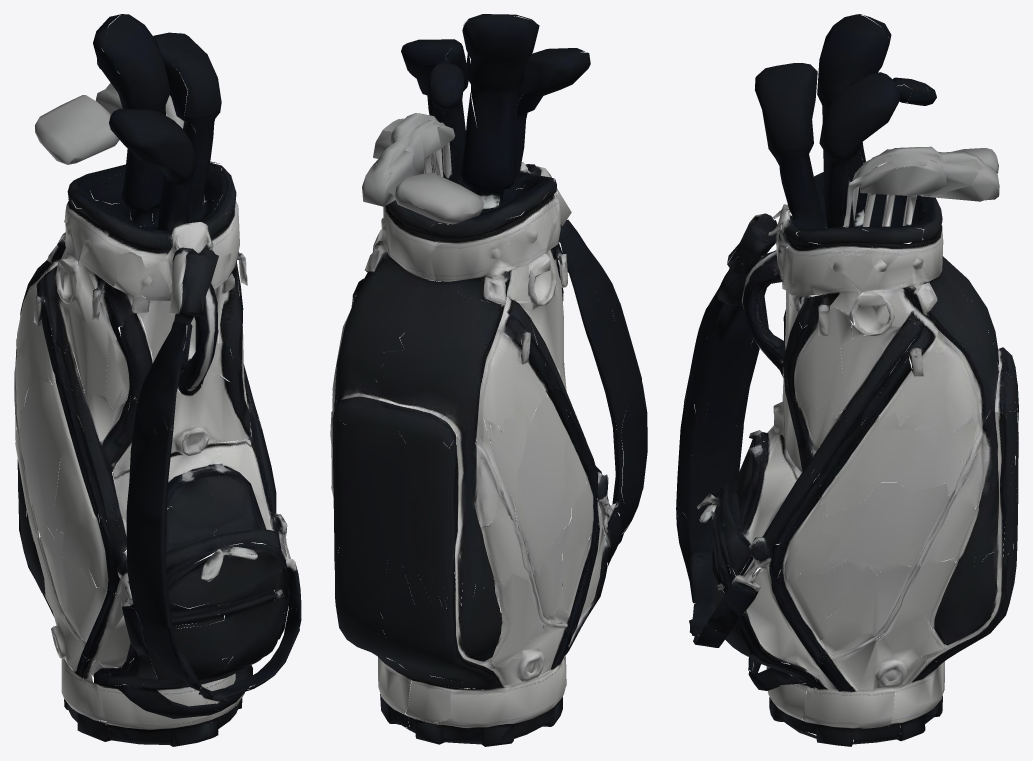
The model's file is golf_bag.glb.
3 renders of one model, left to right at view 1: azimuth 30°, elevation 25°; view 2: azimuth 150°, elevation 25°; view 3: azimuth 270°, elevation 25°, orthographic. The views are drawn at different scales.
Visible parts, largest first — view 1: GolfBag_Body; view 2: GolfBag_Body; view 3: GolfBag_Body.
Part boxes in pixels (x1,y1,x2,y2): GolfBag_Body: [14, 14, 301, 746]; GolfBag_Body: [330, 14, 647, 746]; GolfBag_Body: [676, 14, 1018, 746].
Size of the model in its own units: 0.3162 by 1.12 by 0.513.
Materials: 2 (2 with a texture image).
